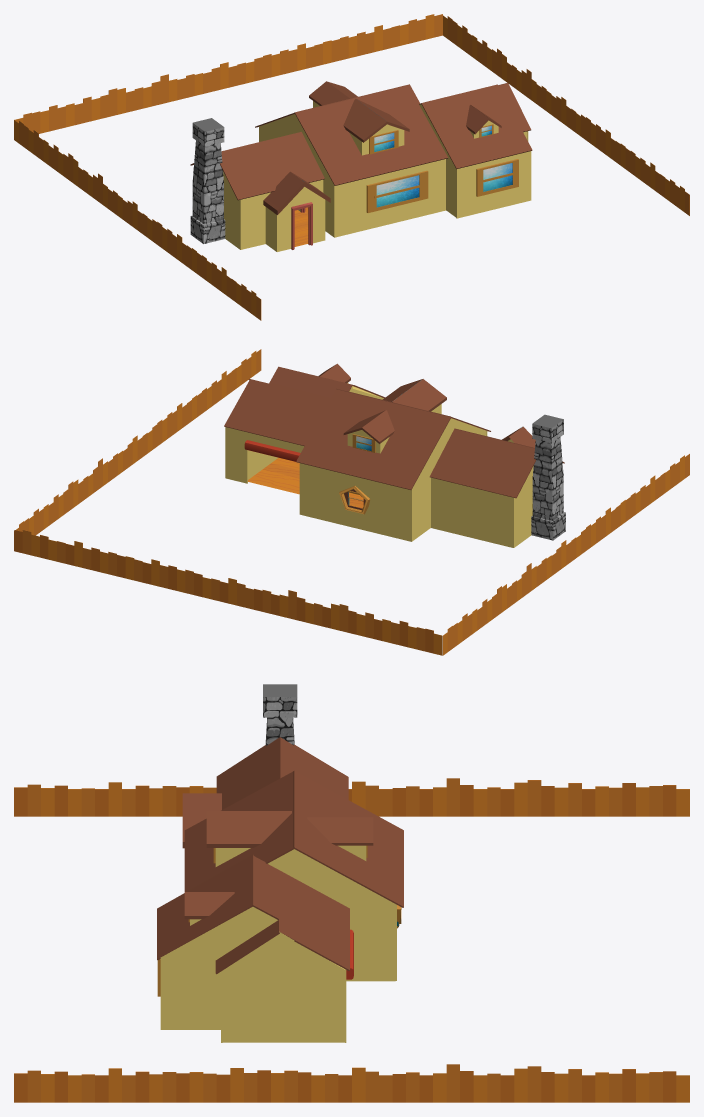
File: fachada.obj
The picture shows the model from 3 angles, top to bottom: view 1: azimuth 30°, elevation 25°; view 2: azimuth 150°, elevation 25°; view 3: azimuth 270°, elevation 25°; orthographic projection. The views are drawn at different scales.
Parts seen in each view (by area): view 1: polySurface2 polySurface141, pCube32 polySurface15, polySurface140 polySurface2, polySurface2 polySurface139, pCube32 polySurface25, polySurface9 polySurface102, polySurface6 pCube32, pCube36, pCube32 polySurface18, polySurface152, polySurface9 polySurface104, polySurface103 polySurface9 (+12 smaller); view 2: polySurface2 polySurface141, pCube32 polySurface26, pCube32 polySurface17, polySurface140 polySurface2, polySurface2 polySurface139, polySurface99, polySurface9 polySurface101, polySurface9 polySurface100, pCube36, polySurface152, polySurface97, pCube8polySurface51 (+4 smaller); view 3: polySurface2 polySurface139, polySurface140 polySurface2, pCube32 polySurface21, pCube32 polySurface26, pCube32 polySurface12, pCube32 polySurface22, pCube32 polySurface17, pCube32 polySurface15, pCube32 polySurface25, polySurface9 polySurface102, pCube43 polySurface36, polySurface9 polySurface101 (+5 smaller).
Part boxes in pixels (<box>): polySurface2 polySurface141: <box>15,14,442,133</box>; pCube32 polySurface15: <box>295,84,448,185</box>; polySurface140 polySurface2: <box>14,120,261,320</box>; polySurface2 polySurface139: <box>443,15,689,215</box>; pCube32 polySurface25: <box>421,84,532,169</box>; polySurface9 polySurface102: <box>220,132,324,200</box>; polySurface6 pCube32: <box>334,159,445,237</box>; pCube36: <box>190,118,225,243</box>; pCube32 polySurface18: <box>456,151,531,218</box>; polySurface152: <box>259,114,333,236</box>; polySurface9 polySurface104: <box>241,179,323,249</box>; polySurface103 polySurface9: <box>223,171,241,249</box>; polySurface2 polySurface141: <box>14,530,442,655</box>; pCube32 polySurface26: <box>296,388,451,489</box>; pCube32 polySurface17: <box>224,366,352,446</box>; polySurface140 polySurface2: <box>442,454,689,655</box>; polySurface2 polySurface139: <box>14,349,261,550</box>; polySurface99: <box>299,463,412,541</box>; polySurface9 polySurface101: <box>429,429,535,498</box>; polySurface9 polySurface100: <box>431,477,512,547</box>; pCube36: <box>531,414,565,540</box>; polySurface152: <box>412,418,486,541</box>; polySurface97: <box>225,427,304,483</box>; pCube8polySurface51: <box>248,457,299,494</box>; polySurface2 polySurface139: <box>14,1064,689,1102</box>; polySurface140 polySurface2: <box>14,778,689,816</box>; pCube32 polySurface21: <box>222,931,344,1042</box>; pCube32 polySurface26: <box>293,771,403,907</box>; pCube32 polySurface12: <box>161,907,277,1029</box>; pCube32 polySurface22: <box>268,849,395,981</box>; pCube32 polySurface17: <box>252,856,349,970</box>; pCube32 polySurface15: <box>184,770,295,891</box>; pCube32 polySurface25: <box>157,854,253,960</box>; polySurface9 polySurface102: <box>216,737,280,809</box>; pCube43 polySurface36: <box>215,811,291,840</box>; polySurface9 polySurface101: <box>280,738,348,799</box>.
Bounding box in the file's own units: 15.18 × 3.85 × 15.16.
Materials: 19 (19 with a texture image).
